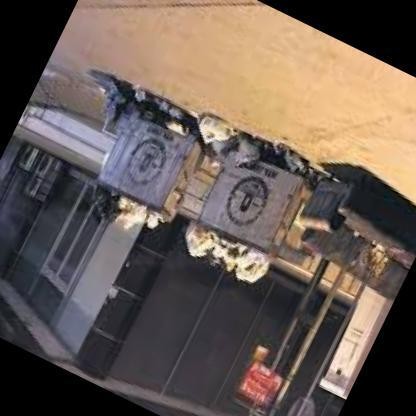Garbage: (178, 224, 274, 298), (231, 128, 321, 195), (84, 180, 172, 248), (80, 56, 150, 125), (193, 102, 245, 152), (133, 84, 187, 126)
